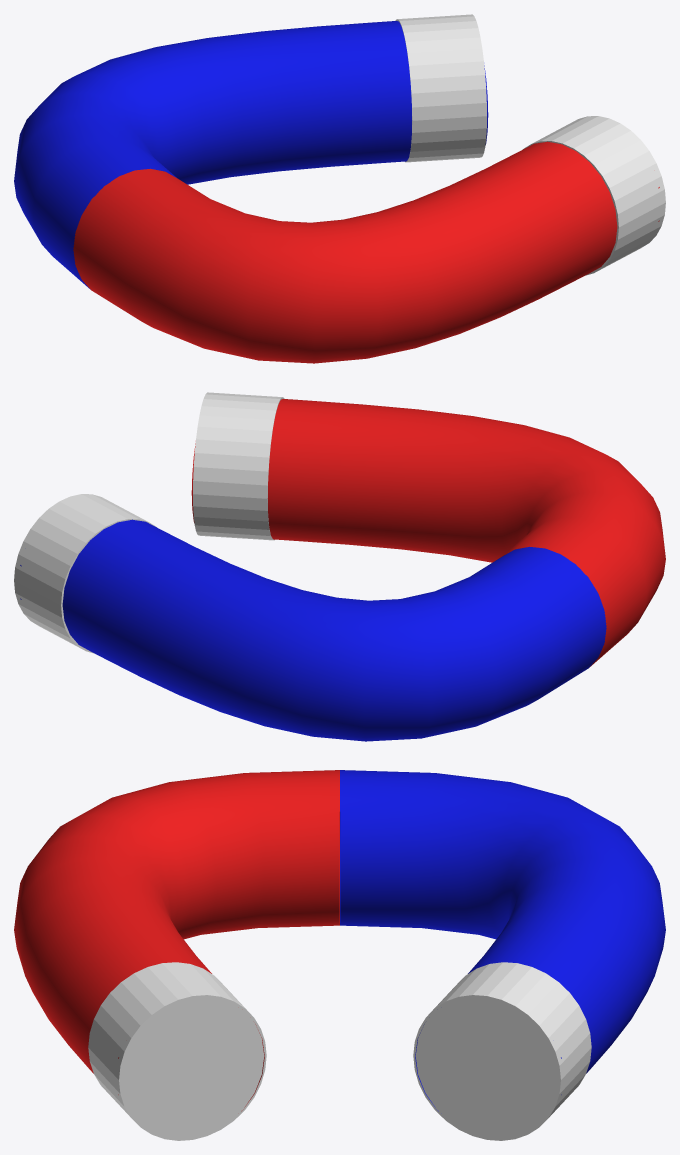
The model's file is magnet.fbx.
3 renders of one model, top to bottom at view 1: azimuth 30°, elevation 25°; view 2: azimuth 150°, elevation 25°; view 3: azimuth 270°, elevation 25°, orthographic. The views are drawn at different scales.
Visible parts, largest first — view 1: BezierCurve.001, BezierCurve, Cylinder.001, Cylinder; view 2: BezierCurve, BezierCurve.001, Cylinder, Cylinder.001; view 3: BezierCurve, BezierCurve.001, Cylinder, Cylinder.001.
Boxes of the visible parts, x1,y1,x2,y2 form: BezierCurve.001: (73,141,659,363); BezierCurve: (14,21,488,289); Cylinder.001: (395,14,486,162); Cylinder: (522,116,665,275); BezierCurve: (20,519,606,741); BezierCurve.001: (191,399,665,667); Cylinder: (193,392,284,540); Cylinder.001: (14,494,157,653); BezierCurve: (340,770,665,1111); BezierCurve.001: (14,770,339,1111); Cylinder: (88,962,266,1140); Cylinder.001: (413,962,591,1140).
Size of the model in its own units: 120 by 30.4 by 125.
